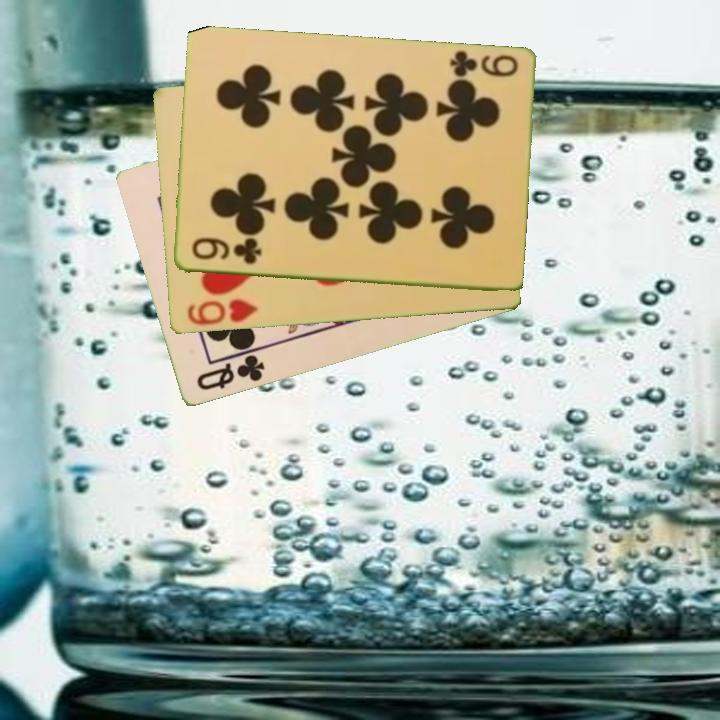6h: (183, 295, 260, 329)
9c: (445, 47, 521, 81), (187, 235, 264, 268)
Qc: (193, 351, 268, 394)
